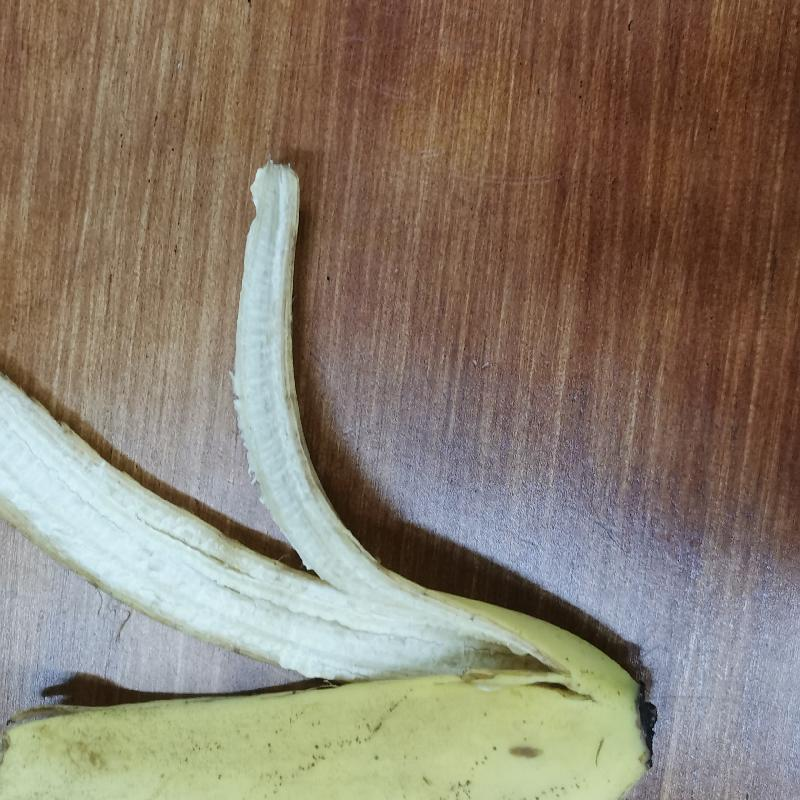bananas: (4, 154, 660, 799)
